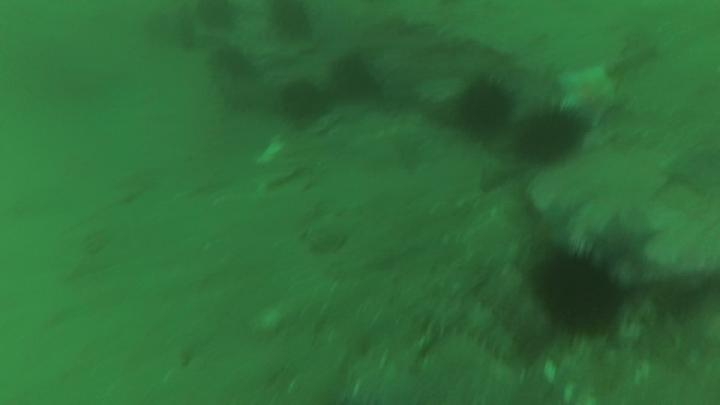echinus: (520, 232, 638, 348), (513, 94, 589, 169), (451, 70, 525, 142), (329, 50, 383, 103), (277, 75, 333, 122), (268, 4, 316, 38)
starfish: (558, 62, 628, 128)
